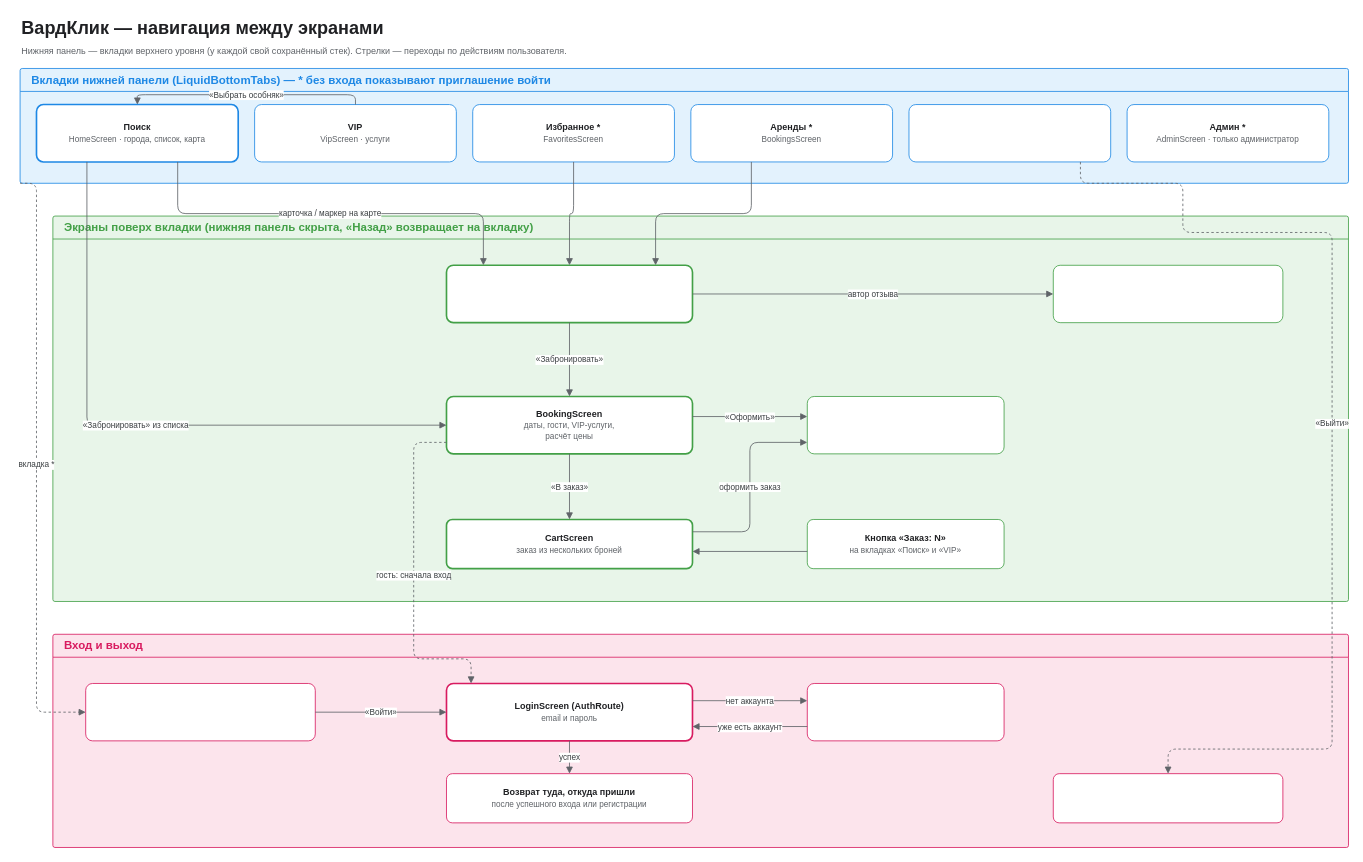
The diagram is 1363 pixels wide and 862 high, and some of its shapes have lost their labels. The centre of each missing label's shape, as x and y in pixels:
"DetailsScreen фото, удобства, карта, отзывы, «В избранное»" goes at (569,293).
"LoginPrompt на вкладках *, пока не выполнен вход" goes at (200,712).
"RegisterScreen новый аккаунт" goes at (905,712).
"ReviewerProfileScreen профиль автора отзыва" goes at (1167,293).
"Профиль * ProfileScreen" goes at (1009,133).
"Сессия сброшена → вкладка «Поиск»" goes at (1167,798).
"→ вкладка «Аренды» бронь или заказ оформлены" goes at (905,425).
